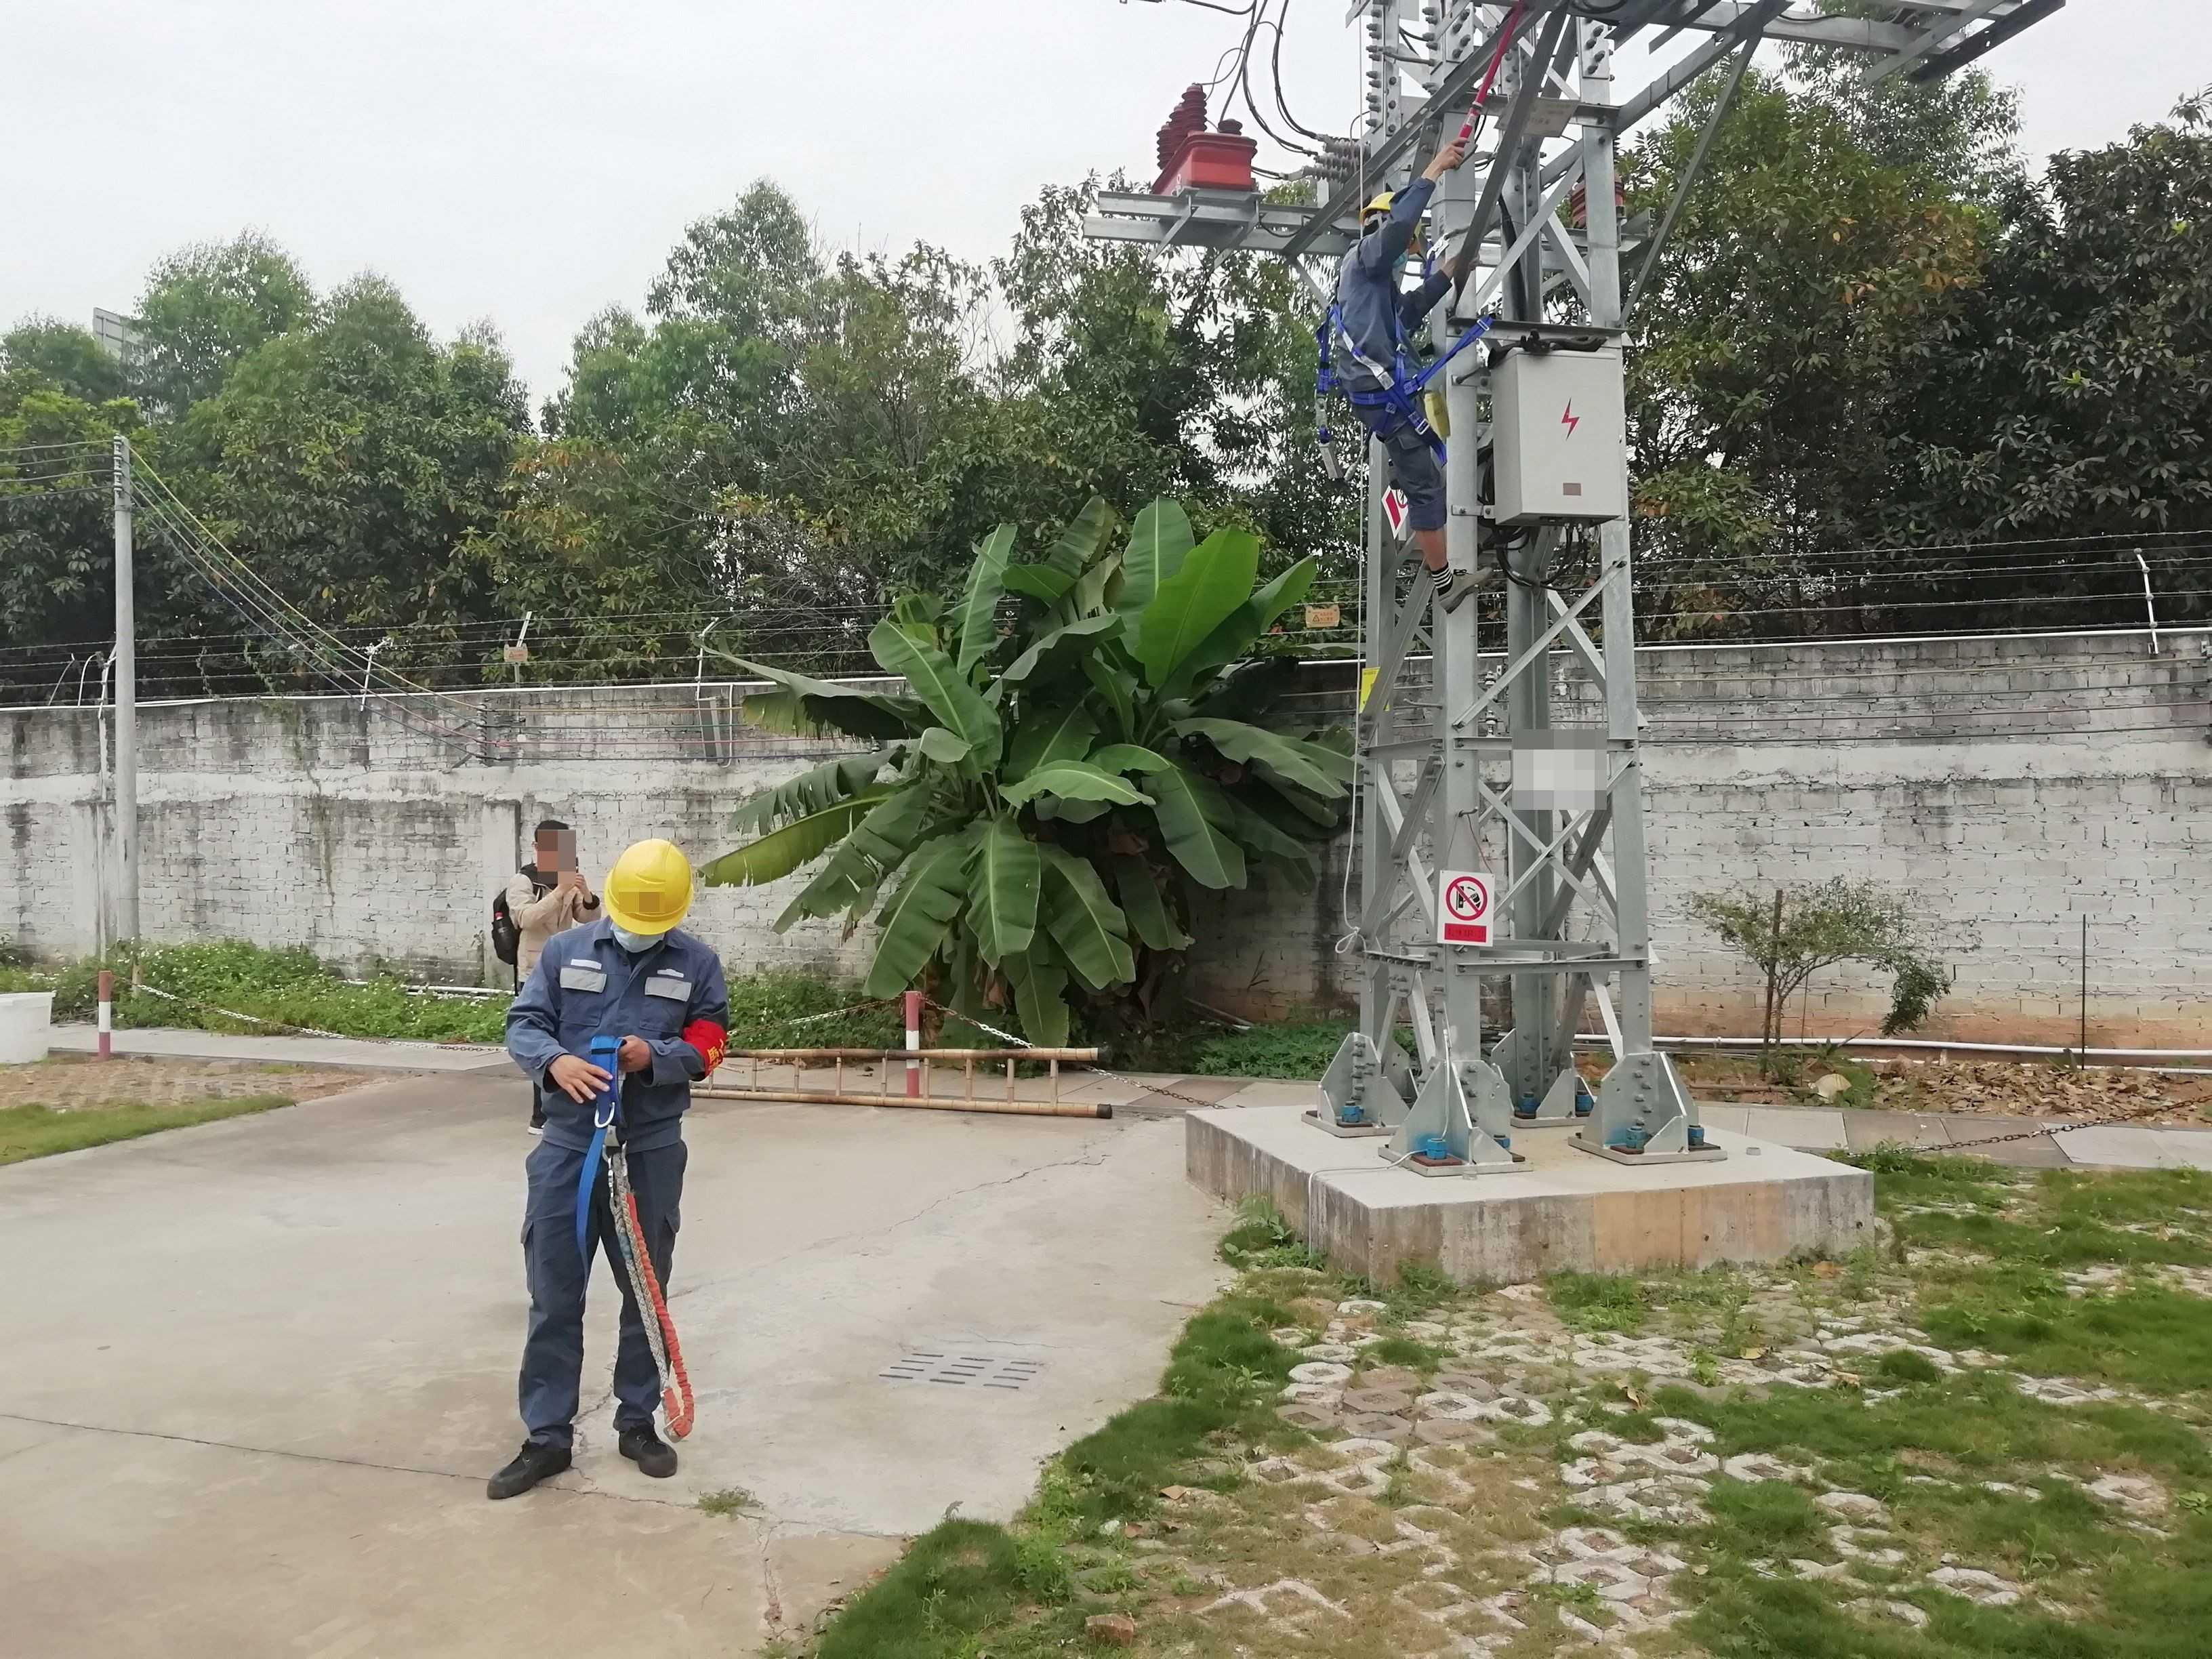downsuit: (521, 1161, 685, 1448), (1364, 408, 1484, 606)
upcloth: (514, 884, 592, 969)
upsuit: (519, 936, 732, 1147), (1332, 247, 1416, 394)
wrongbottom: (1413, 519, 1461, 593)
